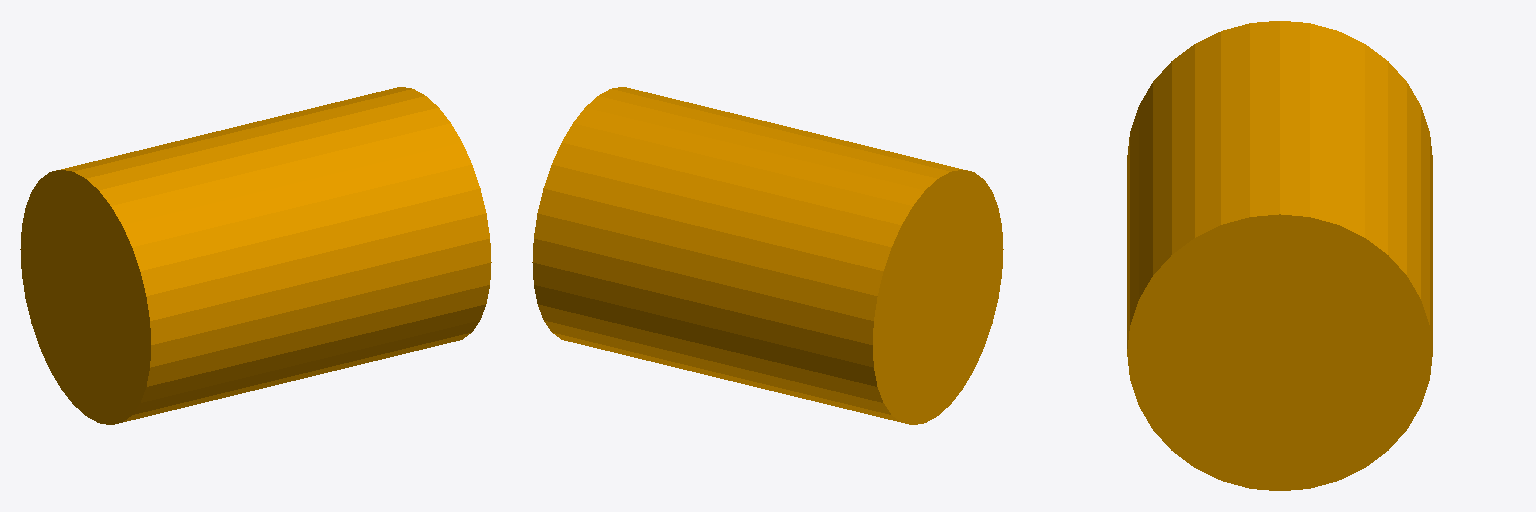
robot.urdf — auv:
<?xml version="1.0"?>
<robot name="auv">
    <link name="auv_base">
        <visual>
            <origin xyz="0 0 0" rpy="0 1.571 0"/>
            <geometry>
                <cylinder length="0.6" radius="0.2"/>
            </geometry>
        </visual>
        <collision>
            <geometry>
                <cylinder length="0.6" radius="0.2"/>
            </geometry>
        </collision>
    </link>
</robot>

--- Render facts (derived) ---
Views: 3 orthographic renders of the robot side by side, from view 1: azimuth 30°, elevation 25°; view 2: azimuth 150°, elevation 25°; view 3: azimuth 270°, elevation 25°.
Robot: auv — 1 links, 0 joints (none); root link auv_base; default pose: all joints at 0.
Visible links, largest first — view 1: auv_base; view 2: auv_base; view 3: auv_base.
Boxes of the visible links, bbox=[...] form: auv_base: bbox=[20, 87, 491, 424]; auv_base: bbox=[532, 87, 1003, 424]; auv_base: bbox=[1127, 21, 1432, 490].
Size in the robot's own frame: 0.6001 by 0.4 by 0.4001 metres.
Geometry: primitives only (box / cylinder / sphere), no mesh files.